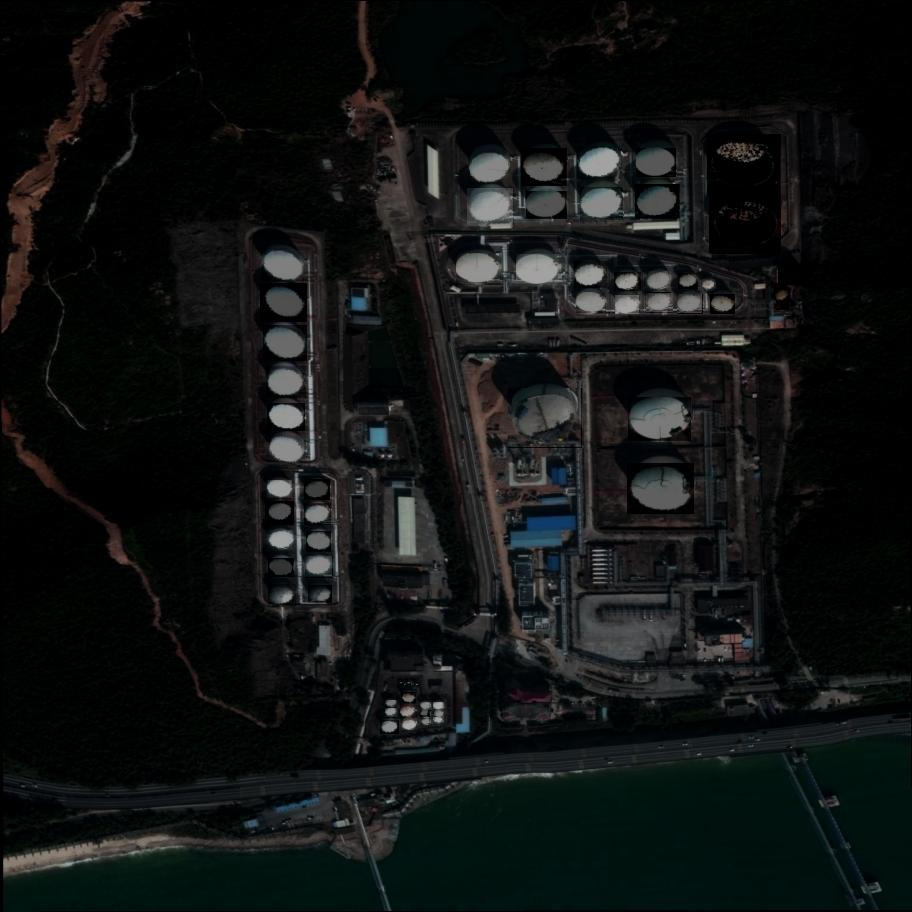storage-tank: (708, 134, 782, 197), (709, 195, 782, 256), (509, 389, 583, 449), (628, 463, 695, 515), (628, 398, 691, 442), (260, 283, 307, 324), (467, 188, 515, 227), (522, 148, 569, 186), (635, 185, 681, 222), (577, 146, 624, 182), (263, 326, 308, 363), (581, 187, 625, 222), (468, 151, 512, 186), (261, 248, 305, 282), (457, 253, 501, 285), (267, 432, 307, 467), (266, 366, 306, 399), (517, 254, 559, 284), (637, 149, 676, 177), (267, 403, 305, 431), (526, 192, 566, 218), (574, 261, 607, 289), (268, 584, 297, 608), (266, 502, 295, 526), (305, 502, 333, 526), (305, 557, 334, 580), (267, 530, 295, 553), (645, 271, 672, 294), (576, 292, 606, 312), (304, 480, 331, 502), (646, 294, 673, 316), (306, 532, 332, 553), (678, 294, 704, 315), (268, 558, 295, 578), (614, 273, 641, 293), (710, 294, 735, 315), (268, 480, 293, 499), (616, 295, 641, 314), (779, 266, 801, 286), (308, 586, 332, 602), (678, 274, 698, 290), (381, 721, 399, 736), (400, 705, 418, 719), (775, 289, 791, 303), (401, 719, 418, 731), (401, 692, 416, 704), (703, 280, 717, 291), (385, 709, 398, 720), (420, 702, 432, 712), (433, 702, 445, 711), (385, 701, 397, 708), (434, 711, 444, 719), (777, 302, 788, 309), (422, 718, 431, 726), (434, 718, 443, 724), (421, 710, 429, 716), (415, 683, 420, 687), (400, 683, 403, 685), (408, 683, 411, 685)
